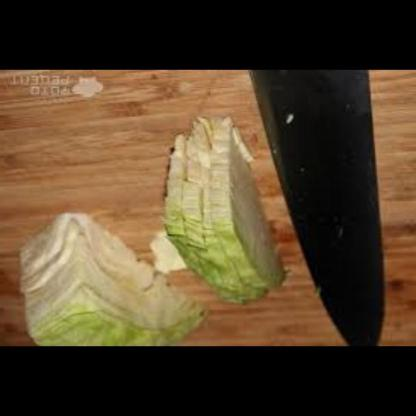cabbage: (3, 211, 224, 347), (154, 105, 285, 316)
